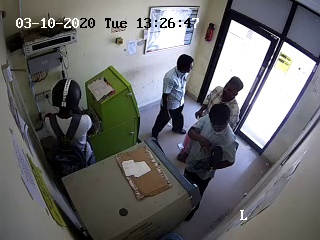helmet: (52, 79, 82, 116)
